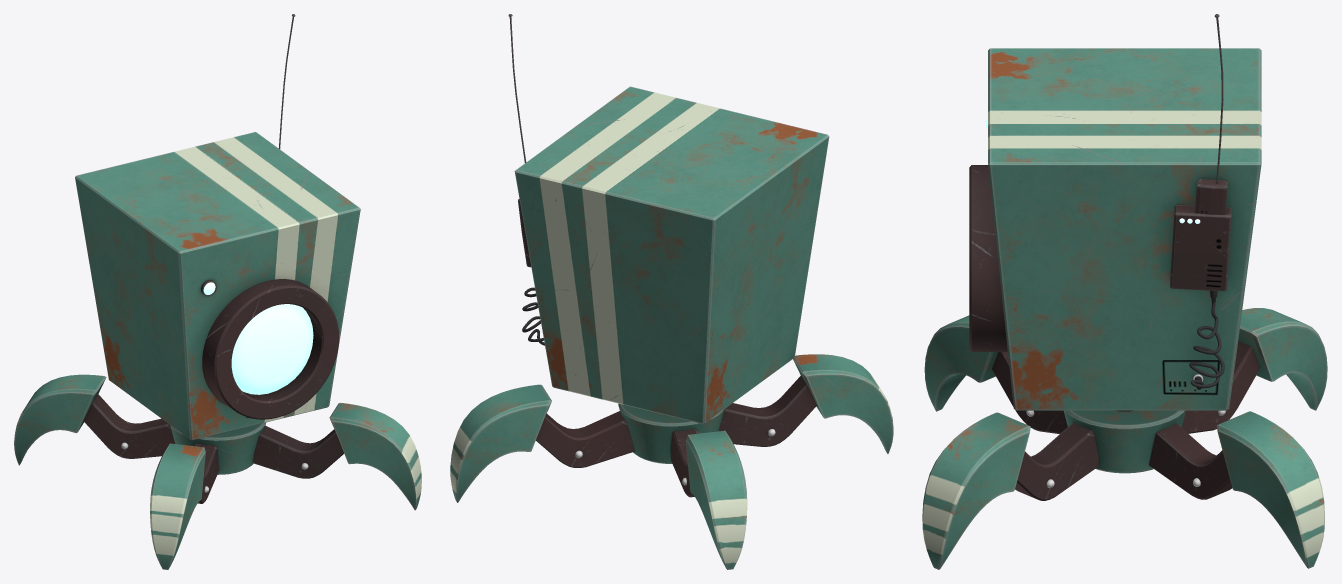
Rendered from robot_-_day_19_-_3december (1).glb.
The picture shows the model from 3 angles, left to right: view 1: azimuth 30°, elevation 25°; view 2: azimuth 150°, elevation 25°; view 3: azimuth 270°, elevation 25°; orthographic projection. The views are drawn at different scales.
Parts seen in each view (by area): view 1: Robot_0; view 2: Robot_0; view 3: Robot_0.
Part boxes in pixels (x1,y1,x2,y2): Robot_0: (14,14,421,569); Robot_0: (450,14,893,569); Robot_0: (922,14,1327,569).
Bounding box in the file's own units: 0.5394 × 0.8007 × 0.5394.
Materials: 1 (1 with a texture image).
